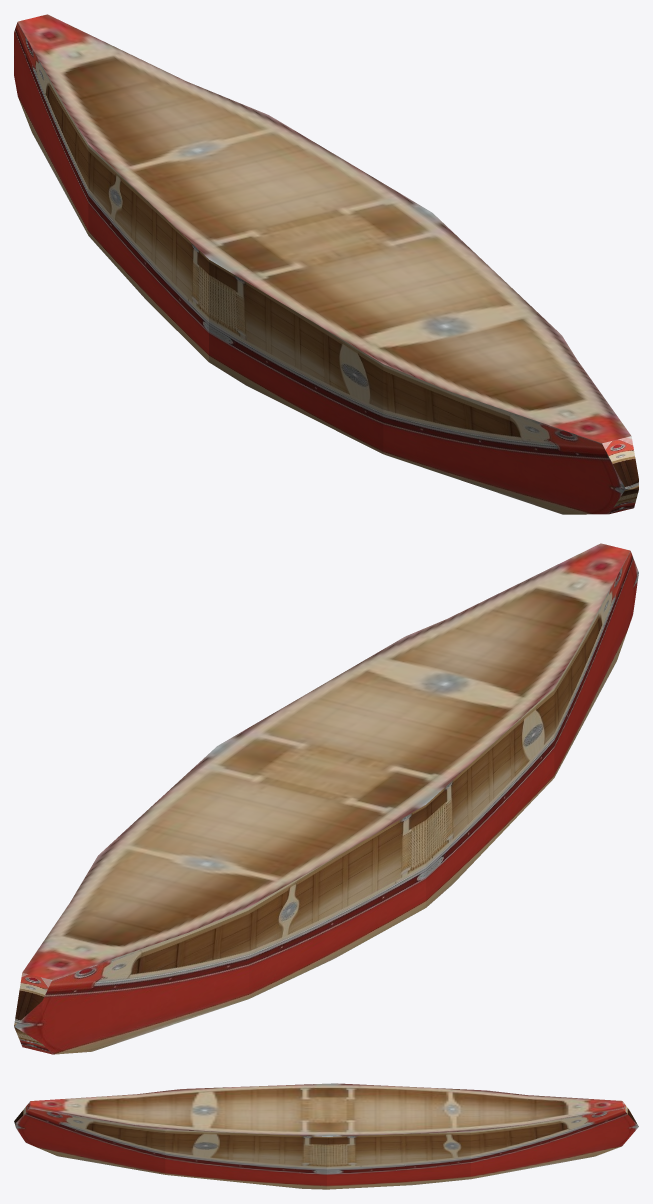
File: canoe_kayak.glb
The picture shows the model from 3 angles, top to bottom: view 1: azimuth 30°, elevation 25°; view 2: azimuth 150°, elevation 25°; view 3: azimuth 270°, elevation 25°; orthographic projection. The views are drawn at different scales.
Visible parts, largest first — view 1: canoe_kayak; view 2: canoe_kayak; view 3: canoe_kayak.
Boxes of the visible parts, x1,y1,x2,y2 form: canoe_kayak: (14, 14, 638, 514); canoe_kayak: (14, 543, 638, 1054); canoe_kayak: (14, 1083, 638, 1189).
Size of the model in its own units: 0.9754 by 0.4975 by 4.8.
Materials: 2 (1 with a texture image).
